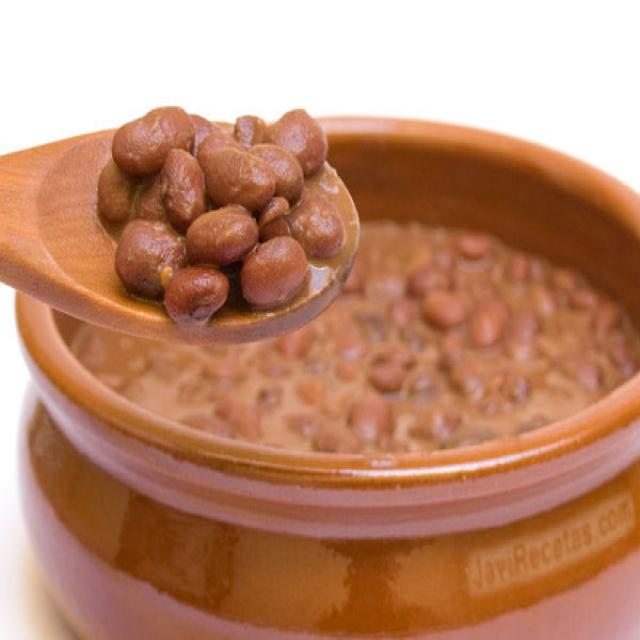frijoles: (89, 100, 368, 333)
